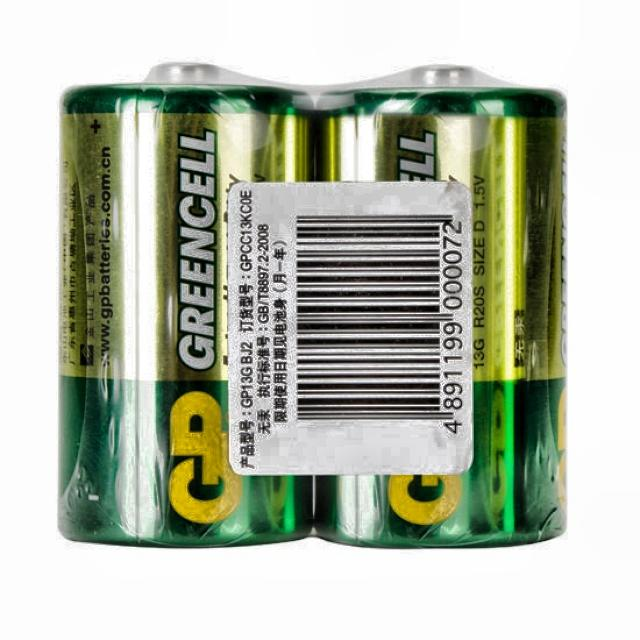Non-Valuable Waste - Batteries: (63, 65, 565, 546)
